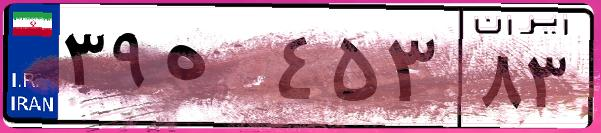3: (385, 28, 445, 110), (57, 26, 110, 100), (525, 38, 570, 115)
4: (270, 28, 330, 110)
5: (330, 28, 385, 110)
8: (475, 38, 525, 113)
9: (110, 28, 158, 98)
ه: (158, 20, 270, 120)
